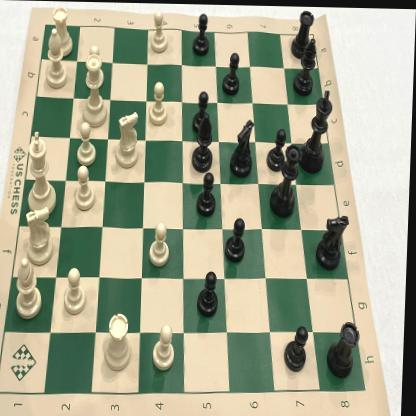black-bishop: (293, 35, 319, 96), (193, 111, 216, 173)
black-king: (299, 86, 337, 173)
black-knight: (318, 210, 351, 270), (229, 117, 257, 178)
black-pawn: (285, 323, 312, 374), (198, 267, 223, 321), (226, 214, 248, 264), (221, 49, 242, 98), (267, 125, 288, 172), (198, 171, 219, 218), (191, 10, 212, 56), (192, 88, 212, 135)
black-queen: (272, 142, 302, 219)
black-rook: (329, 318, 364, 378), (291, 7, 316, 57)
white-bishop: (17, 258, 46, 321), (44, 27, 70, 91)
white-king: (26, 129, 62, 216)
white-knight: (25, 206, 57, 266), (116, 110, 143, 172)
white-pawn: (153, 321, 179, 373), (65, 267, 91, 317), (149, 219, 173, 269), (75, 165, 98, 212), (148, 79, 170, 128), (150, 7, 171, 54), (78, 120, 99, 166), (86, 43, 106, 90)
white-queen: (80, 53, 112, 128)
white-rook: (105, 310, 137, 374), (52, 4, 76, 59)
